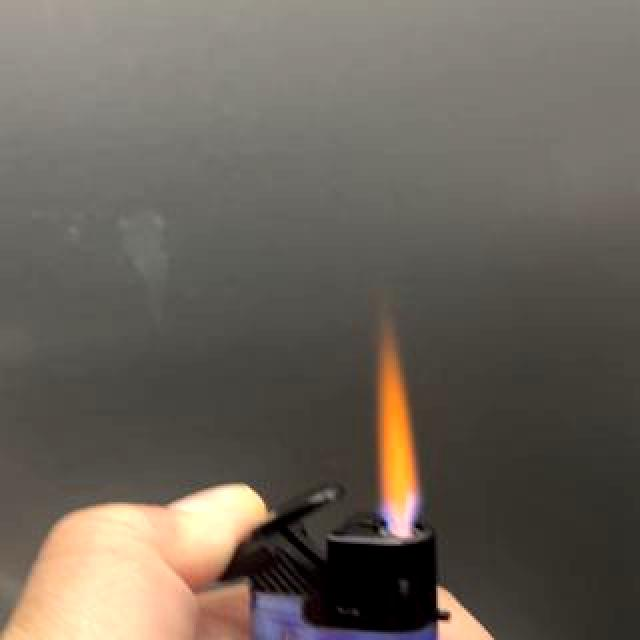fire: (369, 315, 423, 533)
